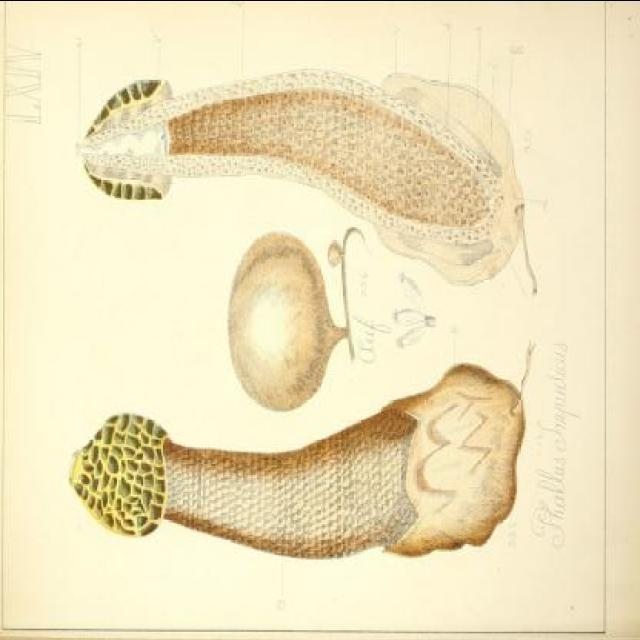Mushroom: (66, 328, 570, 590), (79, 65, 536, 288), (224, 230, 344, 412), (326, 242, 342, 266)
